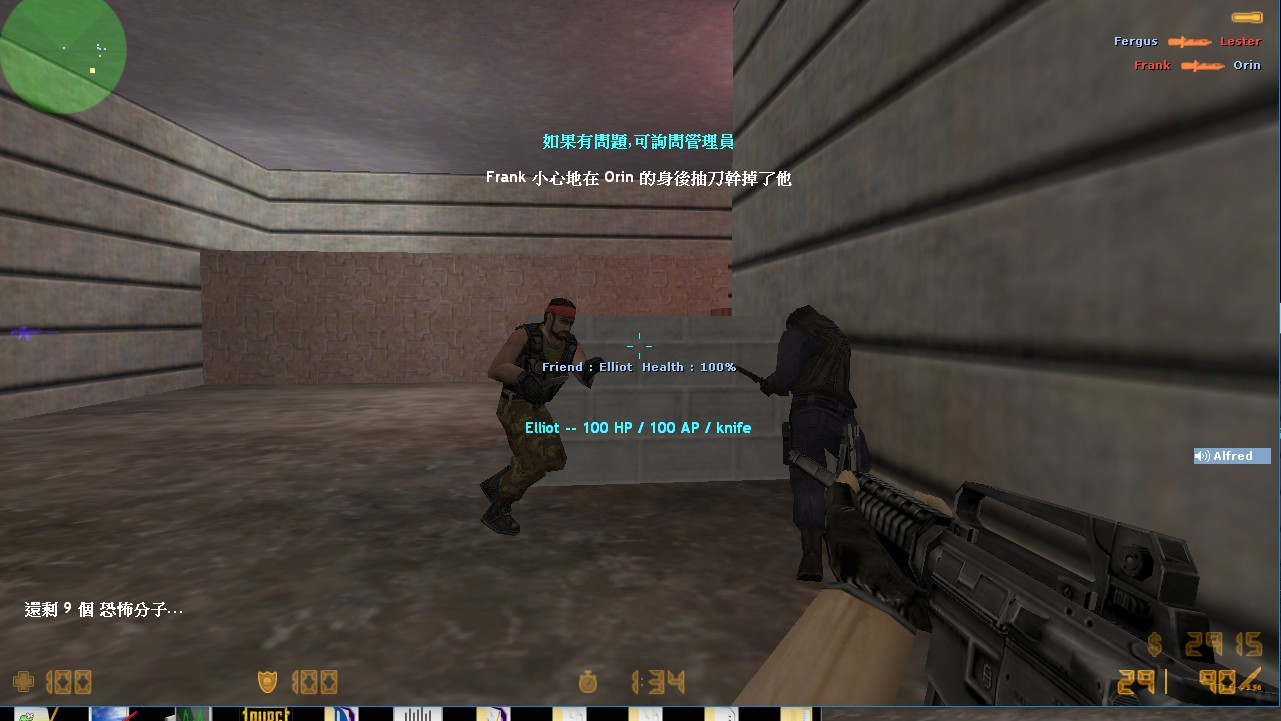person: (729, 297, 885, 589), (480, 288, 597, 542)
